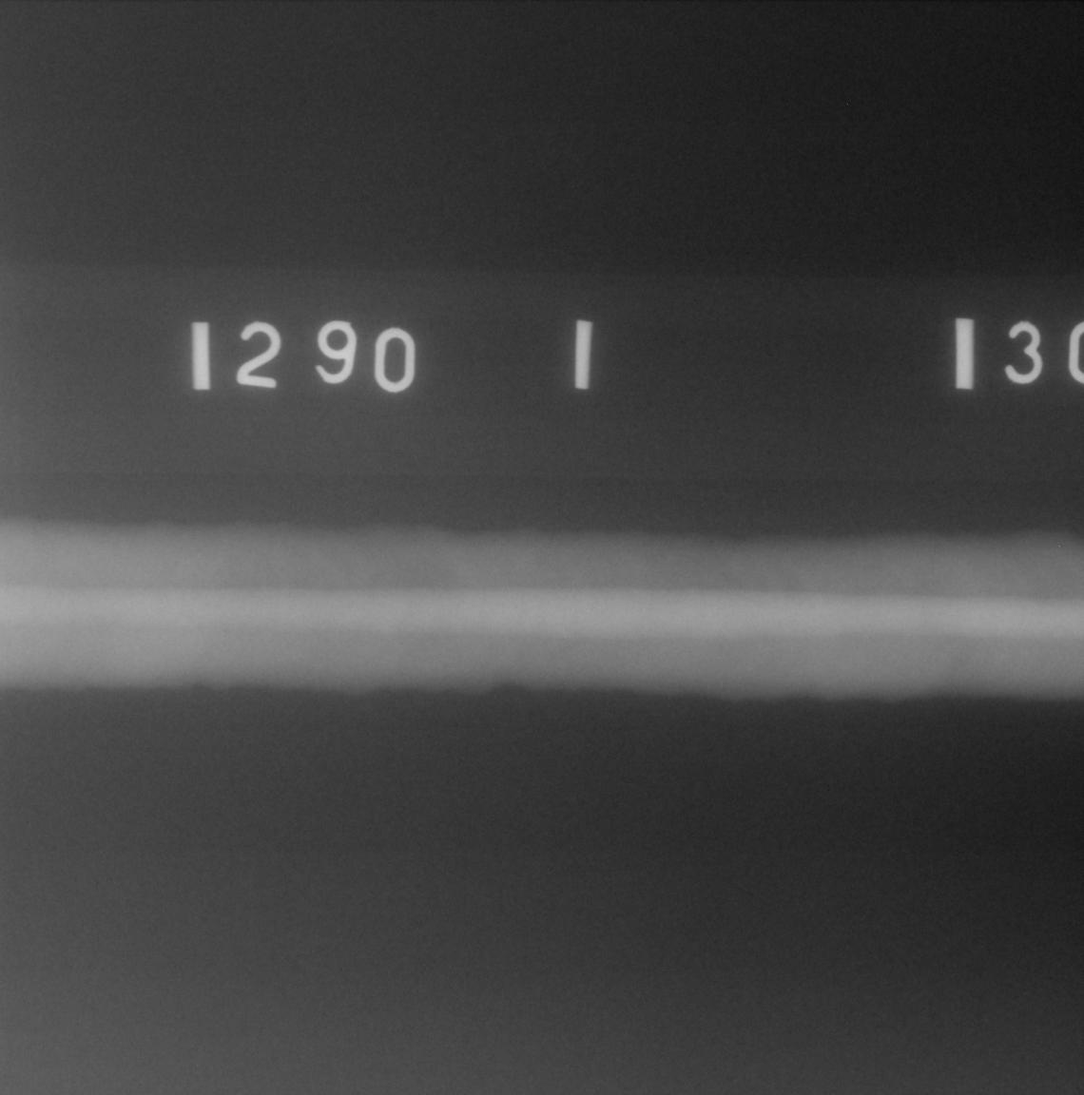Pore/Porosity: (223, 630, 228, 634)
